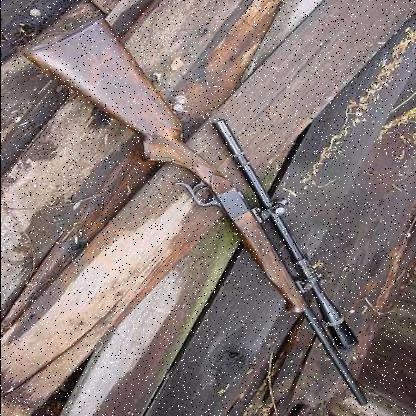rifle: (1, 0, 385, 410)
